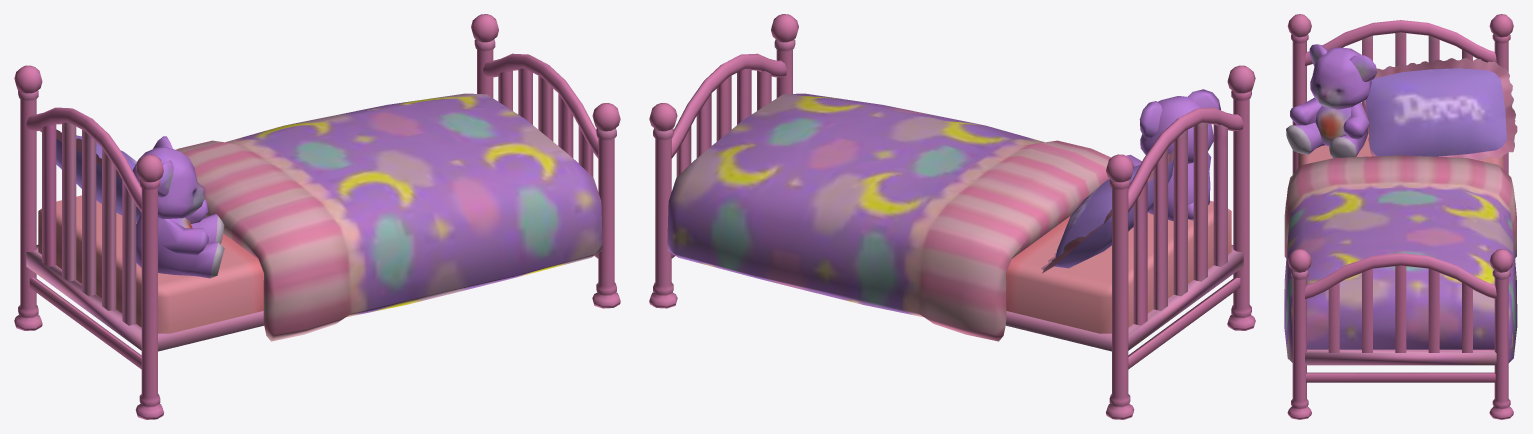
The picture shows the model from 3 angles, left to right: view 1: azimuth 30°, elevation 25°; view 2: azimuth 150°, elevation 25°; view 3: azimuth 270°, elevation 25°; orthographic projection. The views are drawn at different scales.
Size of the model in its own units: 19.57 by 10.03 by 9.92.
Materials: 1 (1 with a texture image).
